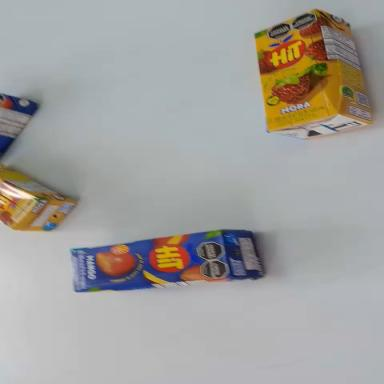HIT-MANGO: (70, 227, 266, 296), (1, 93, 38, 157)
HIT-MORA: (246, 3, 375, 147), (0, 164, 77, 249)
cara_F: (244, 9, 338, 131), (68, 229, 231, 292), (0, 180, 39, 235)
